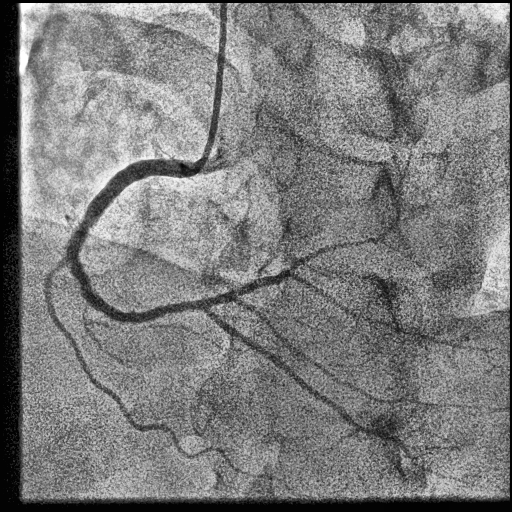pborca: (201, 239, 378, 308)
pda: (201, 308, 436, 458)
rca: (67, 159, 207, 322)
